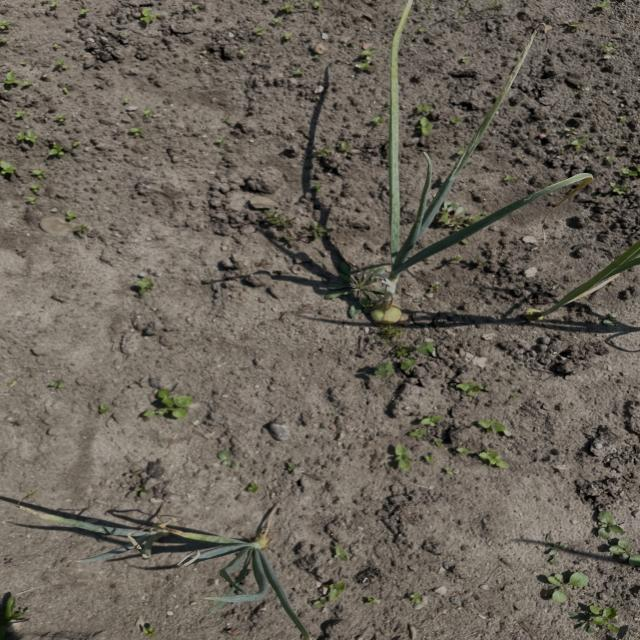Onion: (361, 3, 591, 331), (177, 503, 312, 640), (514, 234, 640, 326), (32, 508, 175, 575)
weed: (327, 258, 389, 321), (260, 207, 332, 246), (372, 342, 435, 383), (540, 565, 592, 606), (602, 158, 640, 206), (379, 441, 422, 480), (145, 392, 200, 422), (578, 598, 622, 634), (586, 504, 631, 538), (0, 593, 32, 640), (128, 265, 162, 306), (440, 374, 493, 400), (471, 444, 512, 474), (308, 578, 349, 607), (606, 539, 640, 571), (53, 202, 88, 230), (24, 164, 46, 208), (130, 102, 155, 140), (396, 584, 430, 610), (328, 537, 352, 566), (0, 13, 19, 47), (413, 117, 439, 138), (16, 125, 39, 148), (560, 126, 586, 144), (132, 10, 161, 26), (1, 69, 25, 88), (50, 59, 74, 76), (289, 64, 311, 79), (454, 52, 478, 65), (1, 160, 19, 177), (75, 6, 95, 21), (50, 148, 71, 162), (48, 41, 68, 53)
